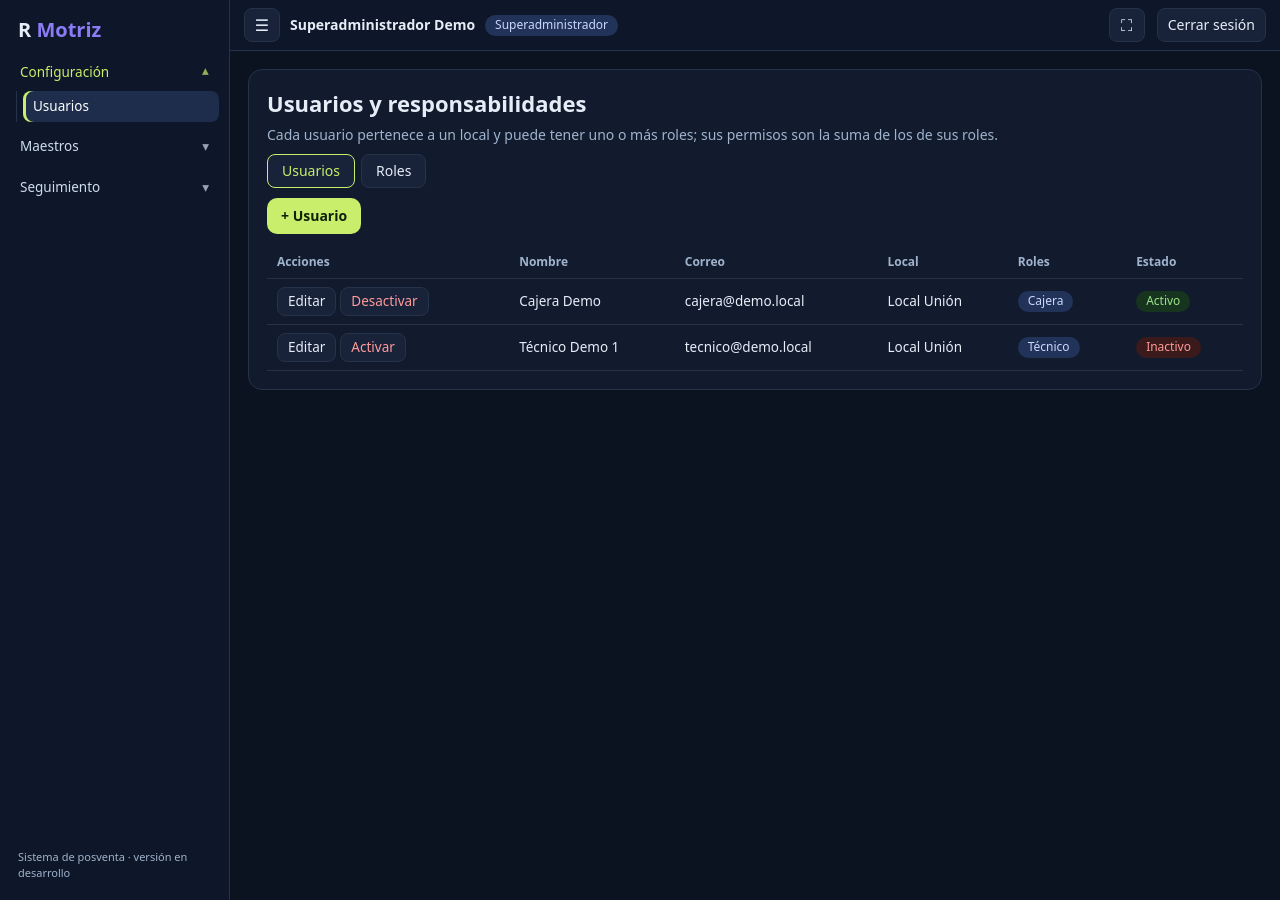
Test: muestra el mensaje del servidor cuando algo falla (correo repetido)
This screenshot has width=1280, height=900.
Step 1. Click the button "+ Usuario" → click(314, 216), box x1=267 y1=198 x2=361 y2=234
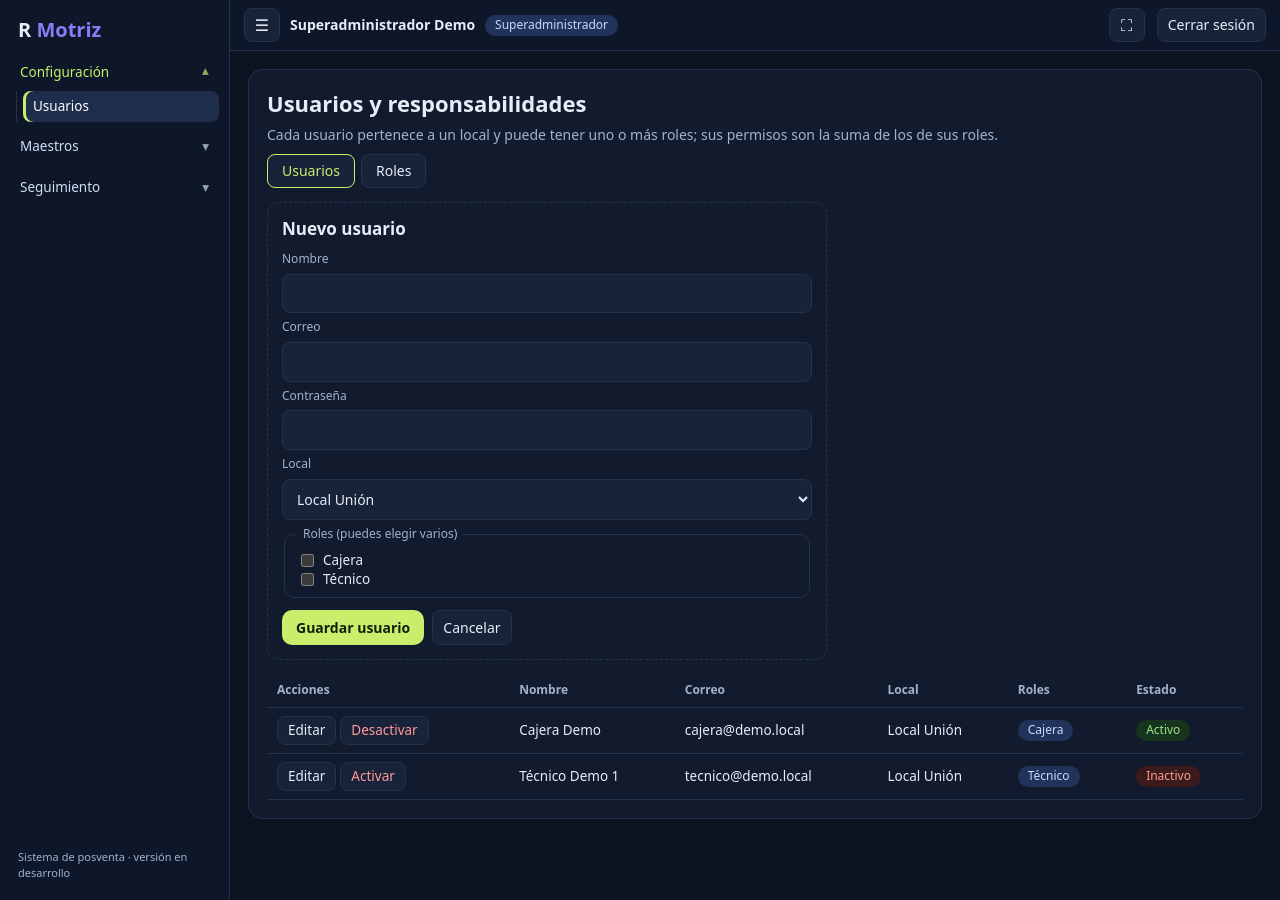
Step 2. Type "X" into the field labelled "Nombre" → (547, 293), box x1=282 y1=274 x2=812 y2=313
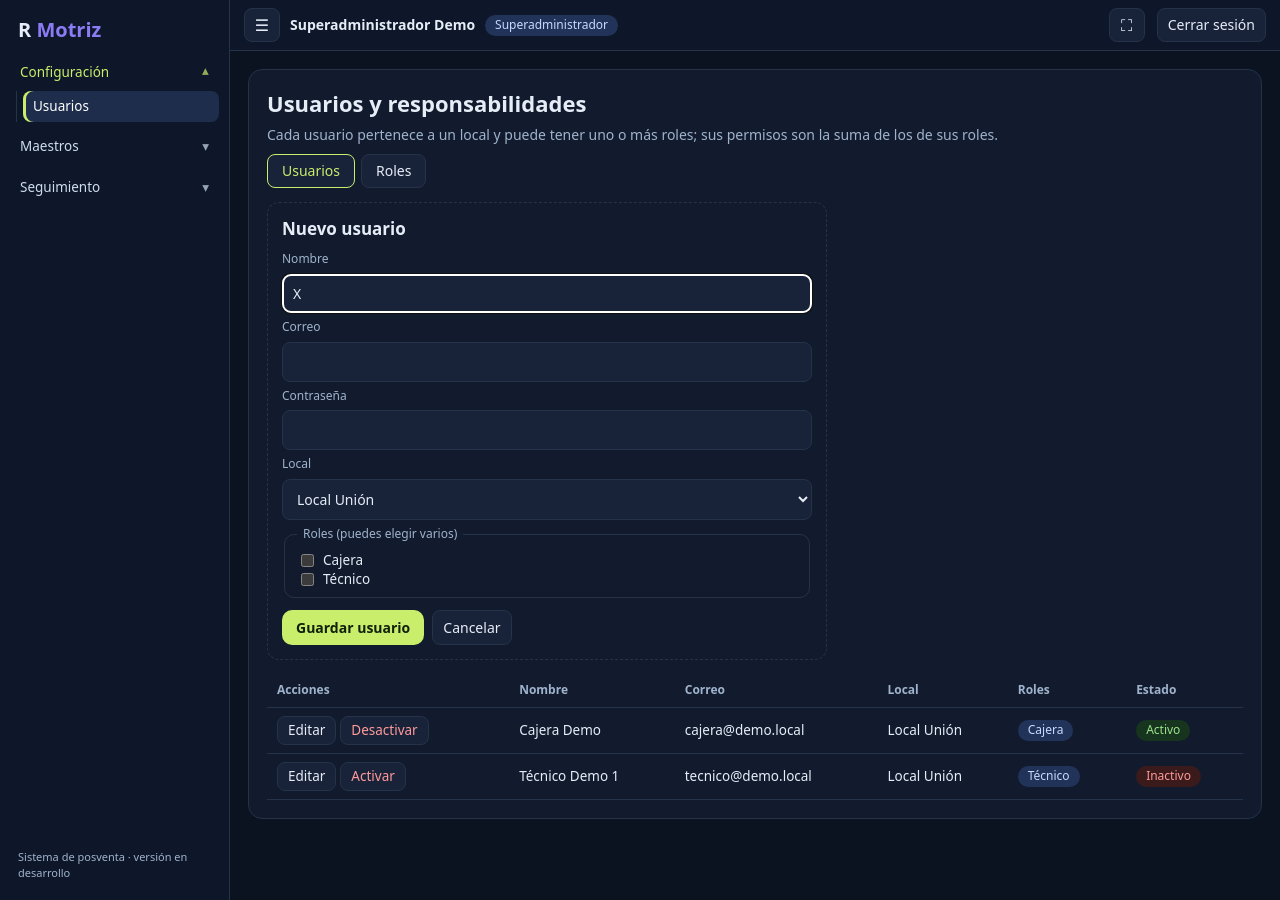
Step 3. Type "cajera@demo.local" into the field labelled "Correo" → (547, 362), box x1=282 y1=342 x2=812 y2=382
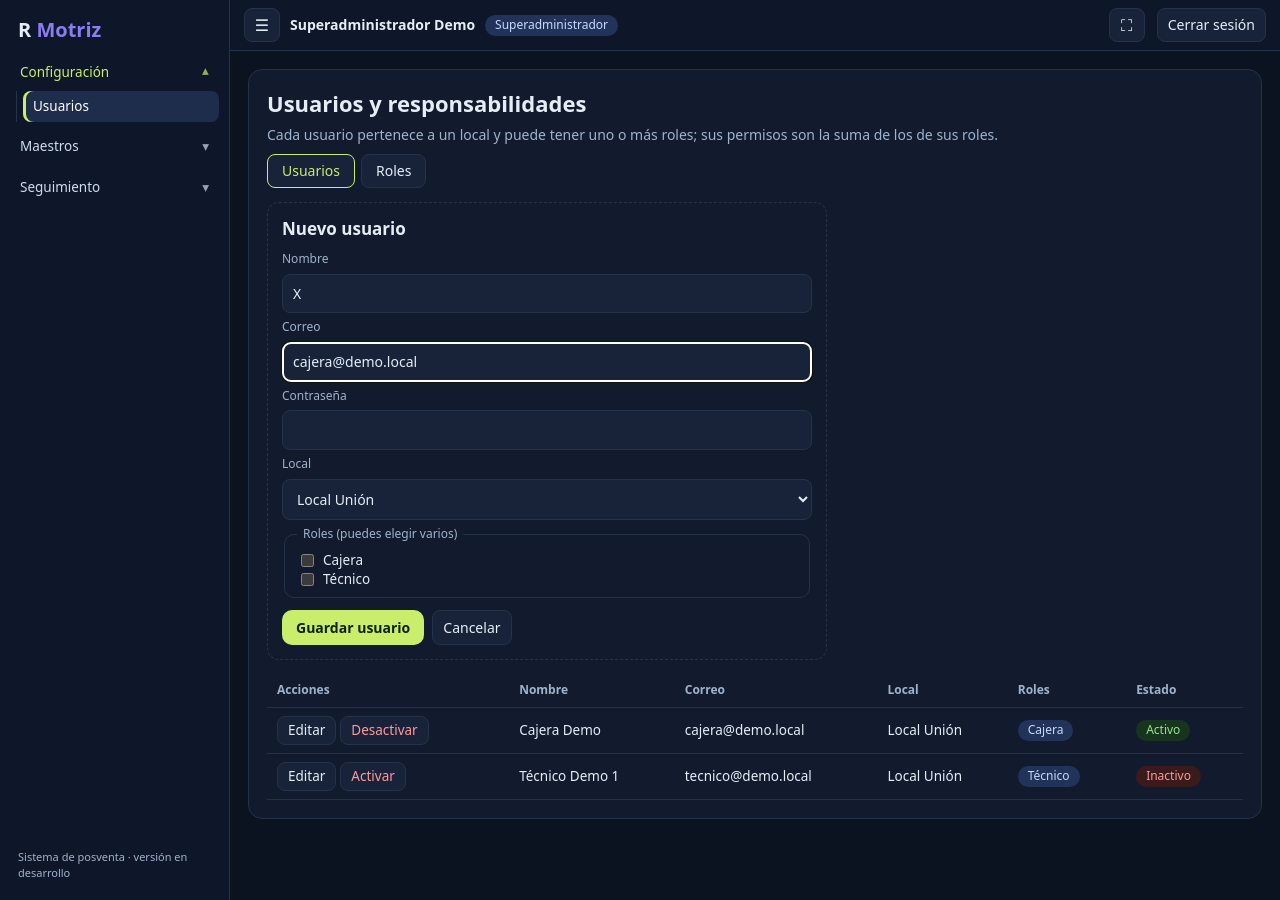
Step 4. Type "ClaveSegura-1" into the password field labelled "Contraseña" → (547, 430), box x1=282 y1=410 x2=812 y2=450
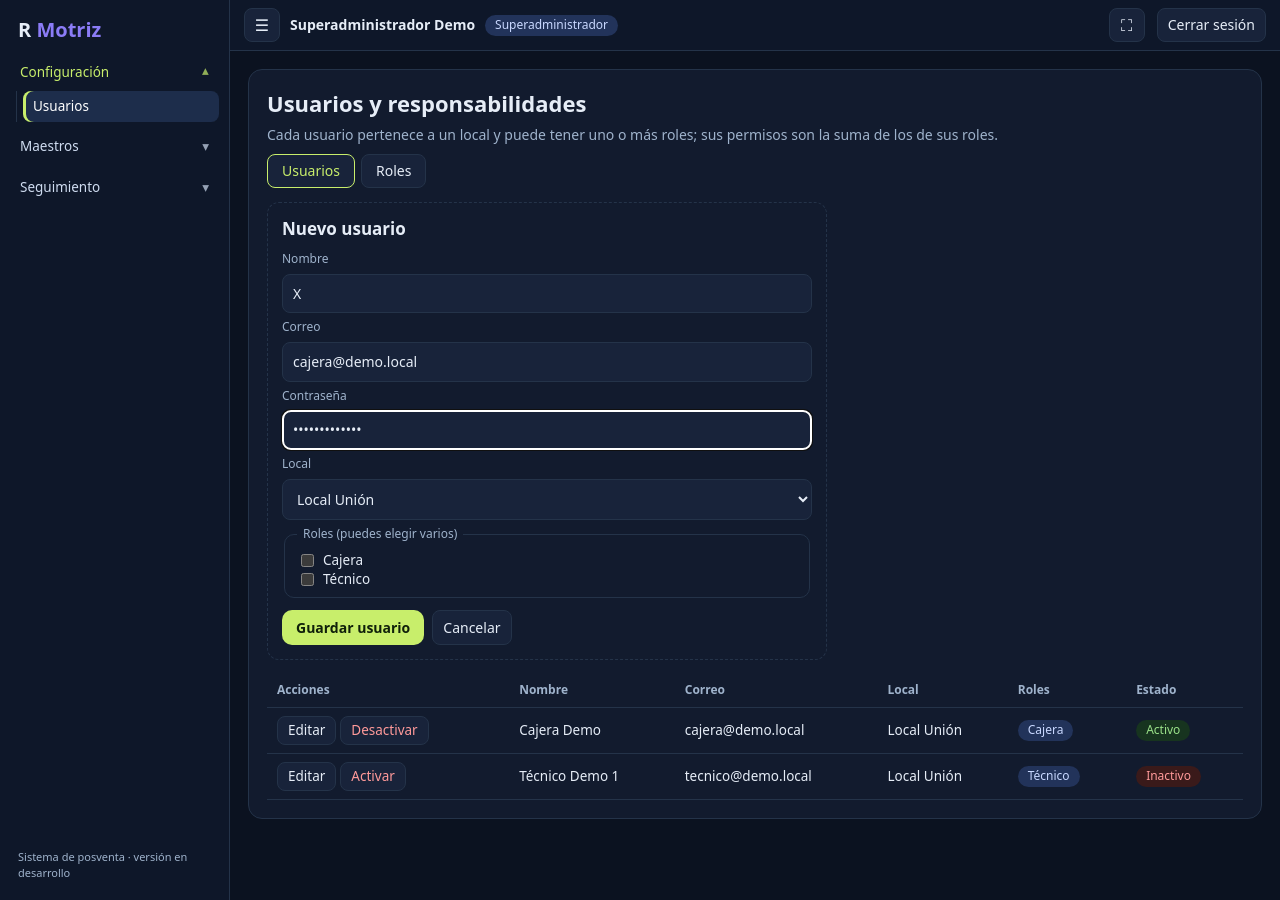
Step 5. Click the checkbox labelled "Cajera" → click(308, 560), box x1=301 y1=554 x2=314 y2=566
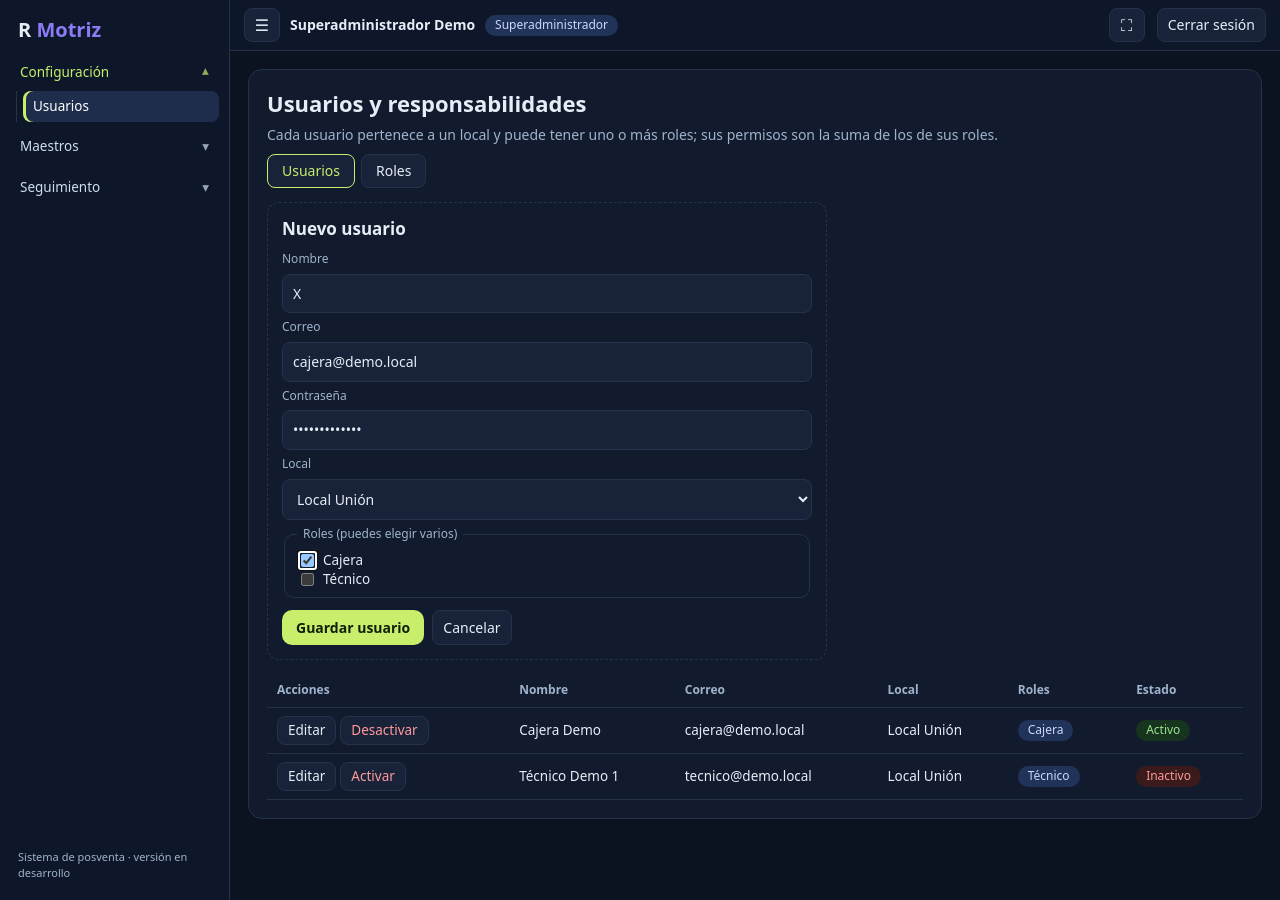
Step 6. Click the button "Guardar usuario" → click(353, 627), box x1=282 y1=610 x2=424 y2=645
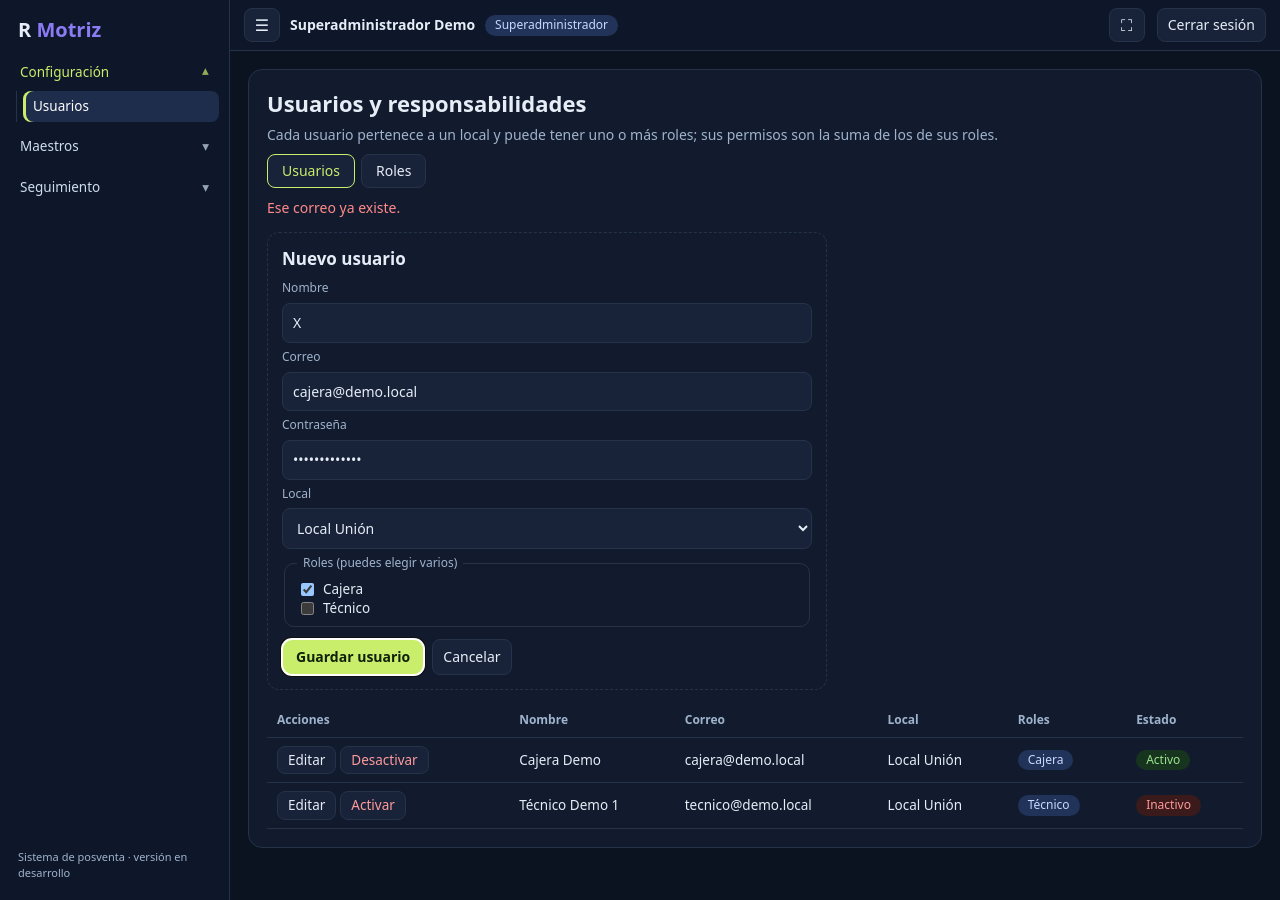
Expected: the message reads "Ese correo ya existe.", x1=267 y1=198 x2=400 y2=217
